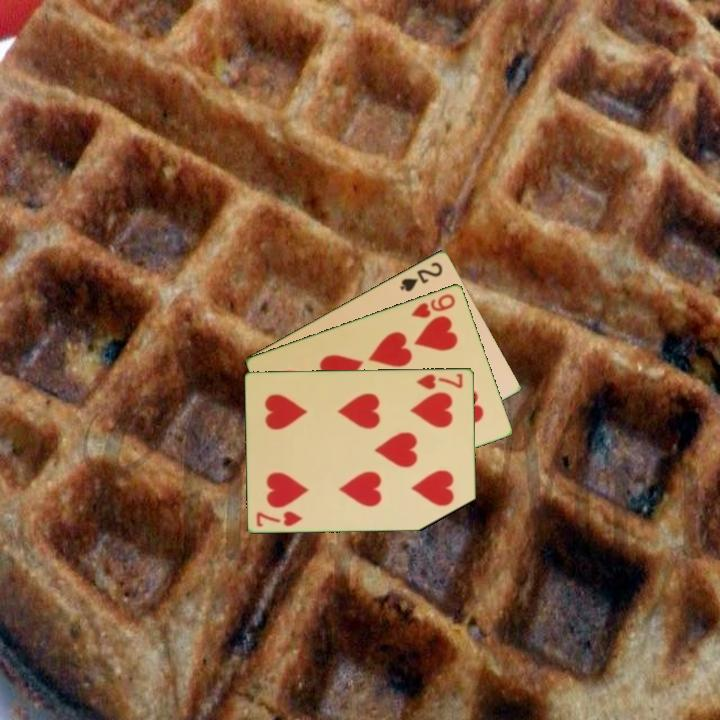2s: (396, 258, 446, 294)
7h: (413, 369, 466, 392), (253, 508, 305, 529)
9h: (408, 290, 458, 321)
